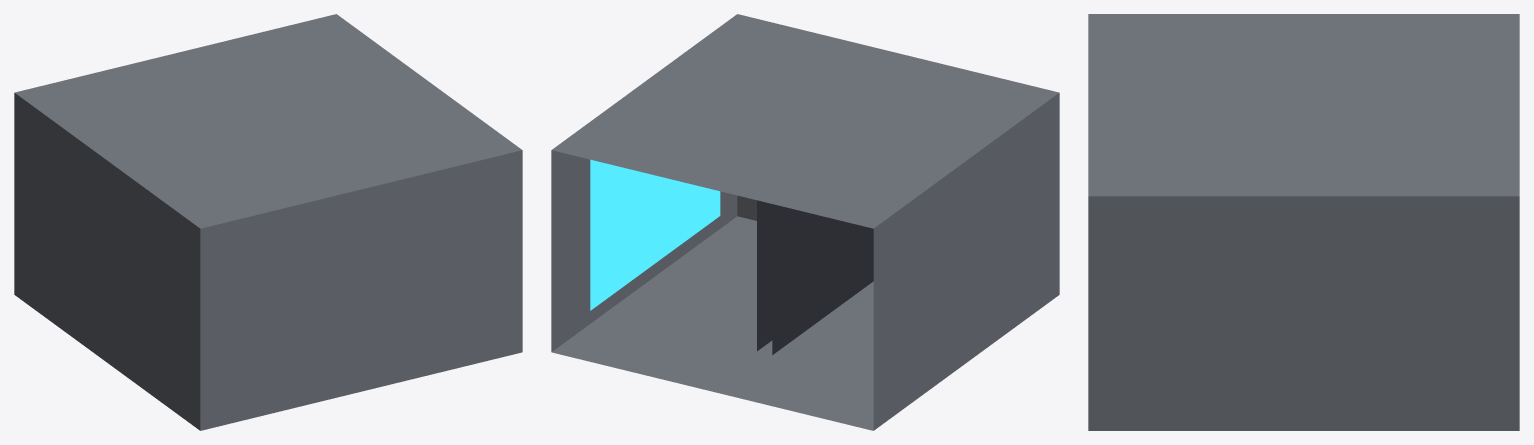
The picture shows the model from 3 angles, left to right: view 1: azimuth 30°, elevation 25°; view 2: azimuth 150°, elevation 25°; view 3: azimuth 270°, elevation 25°; orthographic projection. The views are drawn at different scales.
Parts seen in each view (by area): view 1: Static fog test room; view 2: Static fog test room; view 3: Static fog test room.
Part boxes in pixels (left/top/right/bottom): Static fog test room: left=14, top=14, right=522, bottom=430; Static fog test room: left=551, top=14, right=1059, bottom=430; Static fog test room: left=1088, top=14, right=1519, bottom=430.
Bounding box in the file's own units: 5 × 3 × 5.
